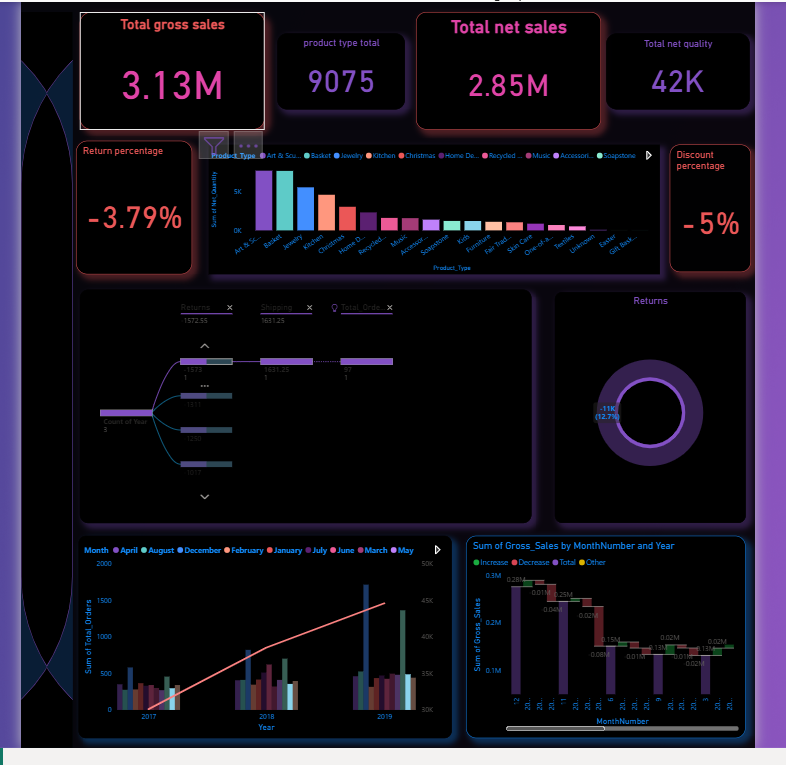

The page's visual inventory and layout, read from the dashboard file:
{"tool":"powerbi","page":{"name":"Page 1","canvas":[1280,1300],"ordinal":0},"visuals":[{"type":"shape","box":[0,17.5,90,1282.5],"z":0},{"type":"columnChart","fields":{"Category":["ProductSales.Product_Type"],"Y":["Sum(ProductSales.Net_Quantity)"],"Series":["ProductSales.Product_Type"]},"box":[326.7,248.3,786.4,226.5],"z":4000},{"type":"card","title":"Total net sales","fields":{"Values":["Sum(ProductSales.Total_Net_Sales)"]},"box":[687.5,17.5,322.5,205],"z":5000},{"type":"card","title":"Total net quality","fields":{"Values":["Sum(ProductSales.Net_Quantity)"]},"box":[1020,55,250,132.5],"z":6000},{"type":"card","title":"product type total ","fields":{"Values":["CountNonNull(ProductSales.Product_Type)"]},"box":[447.5,55,222.5,132.5],"z":7000},{"type":"lineClusteredColumnComboChart","title":" Total Orders and  Total Sales by  Month,  and Year","fields":{"Category":["SummarySales.Year"],"Y":["Sum(SummarySales.Total_Orders)"],"Y2":["Sum(SummarySales.Total_Sales)"],"Series":["SummarySales.Month"]},"box":[100,930,650,352.5],"z":8000},{"type":"donutChart","title":"Returns","fields":{"Y":["Sum(SummarySales.Returns)"]},"box":[930,505,332.5,402.5],"z":9000},{"type":"decompositionTreeVisual","fields":{"Analyze":["Count(SummarySales.Year)"],"ExplainBy":["SummarySales.Returns","SummarySales.Shipping","SummarySales.Total_Orders"]},"box":[102.5,500,787.5,407.5],"z":10000},{"type":"ribbonChart","fields":{"Category":["SummarySales.MonthNumber"],"Series":["SummarySales.Year"],"Y":["Sum(SummarySales.Gross_Sales)"]},"box":[775,930,487.5,352.5],"z":11000},{"type":"card","title":"Total gross sales","fields":{"Values":["Sum(ProductSales.Gross_Sales)"]},"box":[102.5,17.5,322.5,205],"z":13000},{"type":"card","title":"Discount  percentage","fields":{"Values":["ProductSales.TOTAL DICUNT PRT"]},"box":[1130.5,248.3,141.6,222.2],"z":14000},{"type":"card","title":"Return percentage","fields":{"Values":["ProductSales.TOTAL RETURN PRT"]},"box":[95.8,241.8,202.6,233.1],"z":15000}]}

Visuals, with their boxes on the page's 1280x1300 design canvas (x1, y1, x2, y2). These are canvas units, not pixel positions in the 786x765 screenshot, which may show the page scaled, cropped or inside an application window:
shape: x1=0, y1=18, x2=90, y2=1300
columnChart - ProductSales.Product_Type x Sum(ProductSales.Net_Quantity): x1=327, y1=248, x2=1113, y2=475
"Total net sales" card: x1=688, y1=18, x2=1010, y2=222
"Total net quality" card: x1=1020, y1=55, x2=1270, y2=188
"product type total " card: x1=448, y1=55, x2=670, y2=188
" Total Orders and  Total Sales by  Month,  and Year" lineClusteredColumnComboChart: x1=100, y1=930, x2=750, y2=1282
"Returns" donutChart: x1=930, y1=505, x2=1262, y2=908
decompositionTreeVisual - Count(SummarySales.Year) x SummarySales.Returns: x1=102, y1=500, x2=890, y2=908
ribbonChart - SummarySales.MonthNumber x SummarySales.Year: x1=775, y1=930, x2=1262, y2=1282
"Total gross sales" card: x1=102, y1=18, x2=425, y2=222
"Discount  percentage" card: x1=1130, y1=248, x2=1272, y2=470
"Return percentage" card: x1=96, y1=242, x2=298, y2=475
